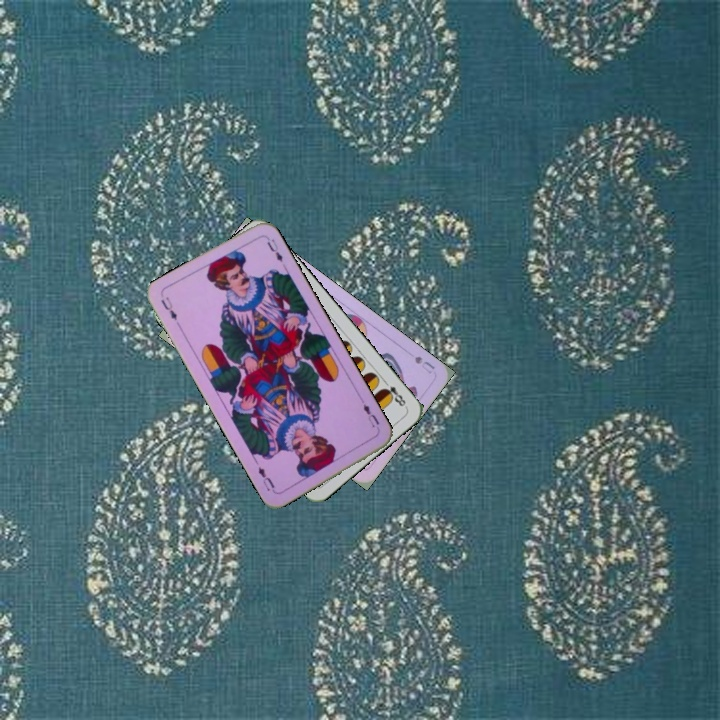E8: (378, 376, 410, 411)
EU: (357, 396, 382, 433), (157, 293, 180, 323)
SU: (410, 352, 437, 376)
